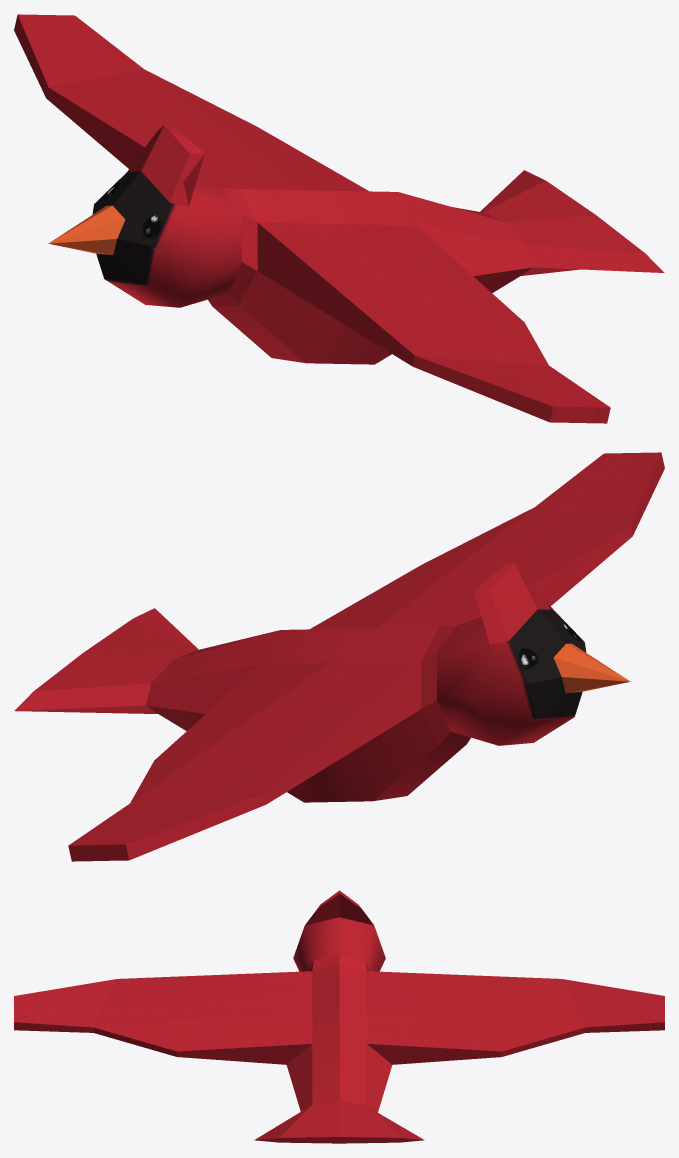
Rendered from Bird.fbx.
3 views of the same model, one above another, from view 1: azimuth 30°, elevation 25°; view 2: azimuth 150°, elevation 25°; view 3: azimuth 270°, elevation 25° (orthographic). The views are drawn at different scales.
Parts seen in each view (by area): view 1: Bird; view 2: Bird; view 3: Bird.
Boxes of the visible parts, x1,y1,x2,y2 form: Bird: [14, 14, 664, 423]; Bird: [14, 452, 664, 861]; Bird: [14, 890, 664, 1143].
Size of the model in its own units: 20.67 by 9.99 by 35.01.
